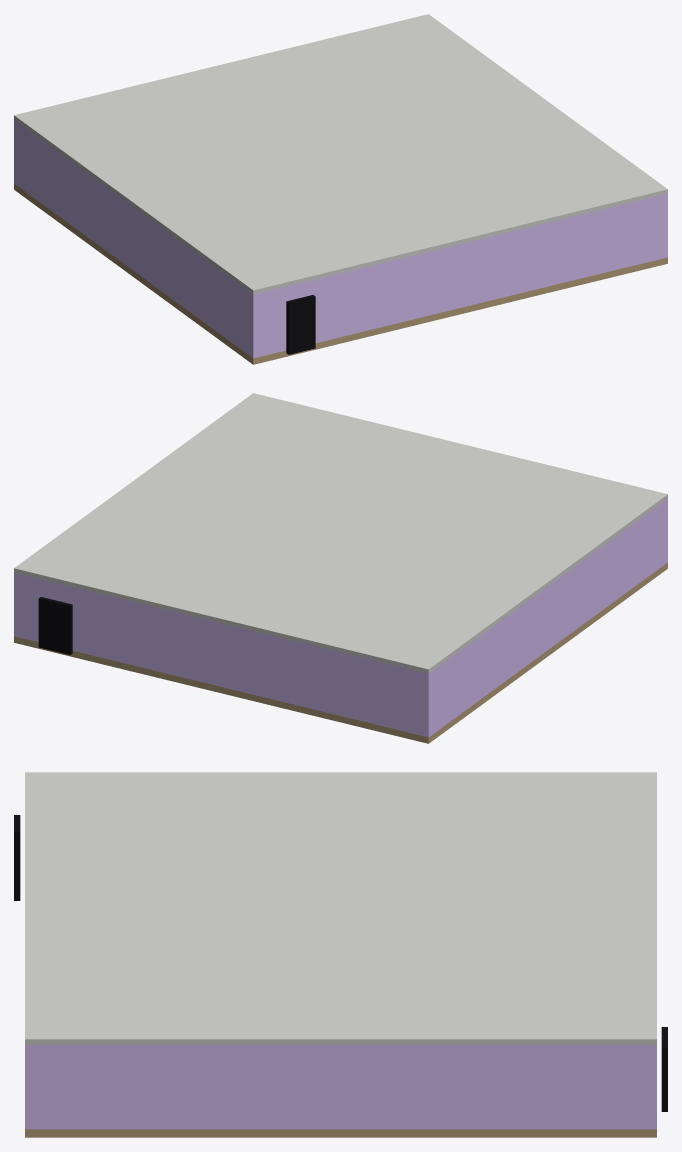
Rendered from rdwe_bending_hall.glb.
3 renders of one model, top to bottom at view 1: azimuth 30°, elevation 25°; view 2: azimuth 150°, elevation 25°; view 3: azimuth 270°, elevation 25°, orthographic. The views are drawn at different scales.
Parts seen in each view (by area): view 1: Room_Ceiling, Room_Wall_S_3, Room_Wall_W_1, Room_Floor, Room_Wall_S_1, Beyond_start; view 2: Room_Ceiling, Room_Wall_N_1, Room_Wall_W_1, Room_Floor, Beyond_lap, Room_Wall_N_3; view 3: Room_Ceiling, Room_Wall_E_1, Room_Floor, Beyond_start, Beyond_lap.
Part boxes in pixels (x1=…): Room_Ceiling: x1=14, y1=14, x2=667, y2=294; Room_Wall_S_3: x1=307, y1=193, x2=667, y2=342; Room_Wall_W_1: x1=16, y1=121, x2=250, y2=356; Room_Floor: x1=14, y1=183, x2=667, y2=364; Room_Wall_S_1: x1=251, y1=286, x2=289, y2=358; Beyond_start: x1=286, y1=295, x2=315, y2=354; Room_Ceiling: x1=14, y1=393, x2=667, y2=673; Room_Wall_N_1: x1=70, y1=586, x2=430, y2=737; Room_Wall_W_1: x1=431, y1=500, x2=665, y2=735; Room_Floor: x1=14, y1=562, x2=667, y2=743; Beyond_lap: x1=38, y1=597, x2=72, y2=654; Room_Wall_N_3: x1=14, y1=572, x2=47, y2=642; Room_Ceiling: x1=25, y1=772, x2=656, y2=1044; Room_Wall_E_1: x1=31, y1=1045, x2=650, y2=1129; Room_Floor: x1=25, y1=1129, x2=656, y2=1137; Beyond_start: x1=14, y1=815, x2=20, y2=900; Beyond_lap: x1=661, y1=1027, x2=667, y2=1111.
Size of the model in its own units: 20.4 by 3.5 by 21.1.
